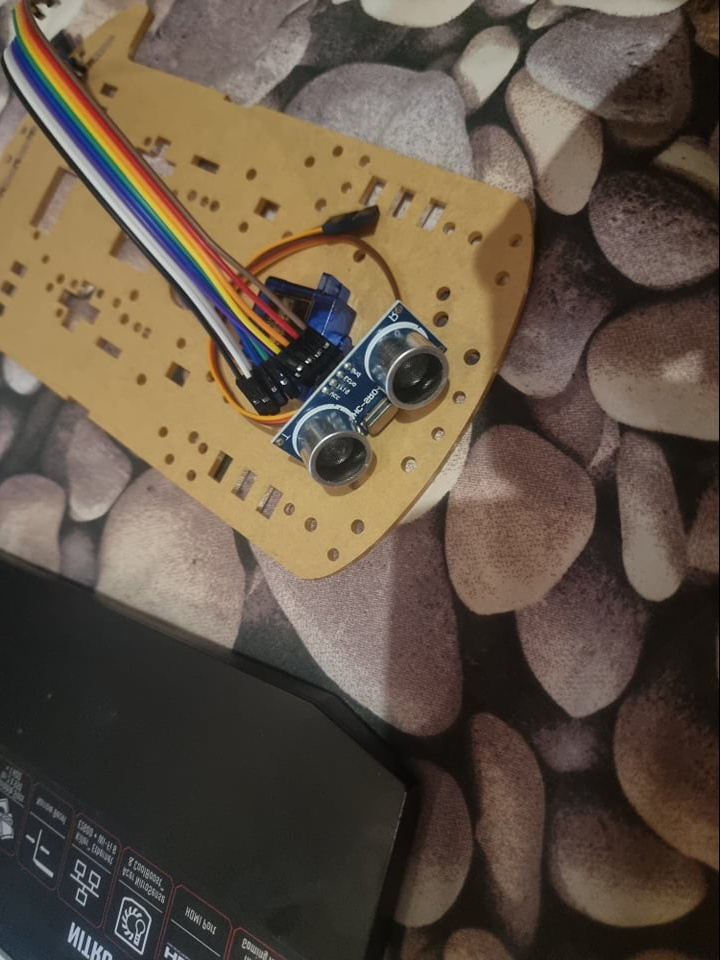SENSOR: (280, 299, 455, 493)
